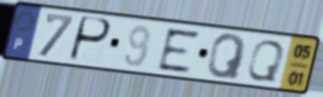7: (38, 11, 76, 60)
9: (123, 23, 156, 69)
E: (156, 27, 203, 75)
P: (66, 14, 114, 64)
Q: (205, 32, 249, 82), (244, 39, 287, 84)
